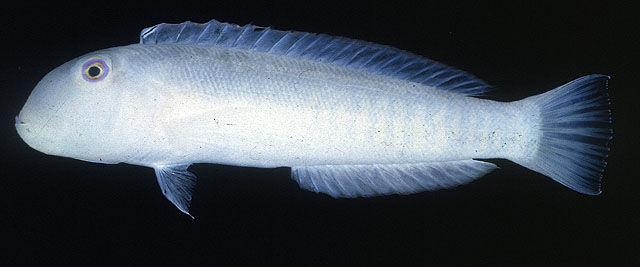fish: (15, 19, 615, 221)
